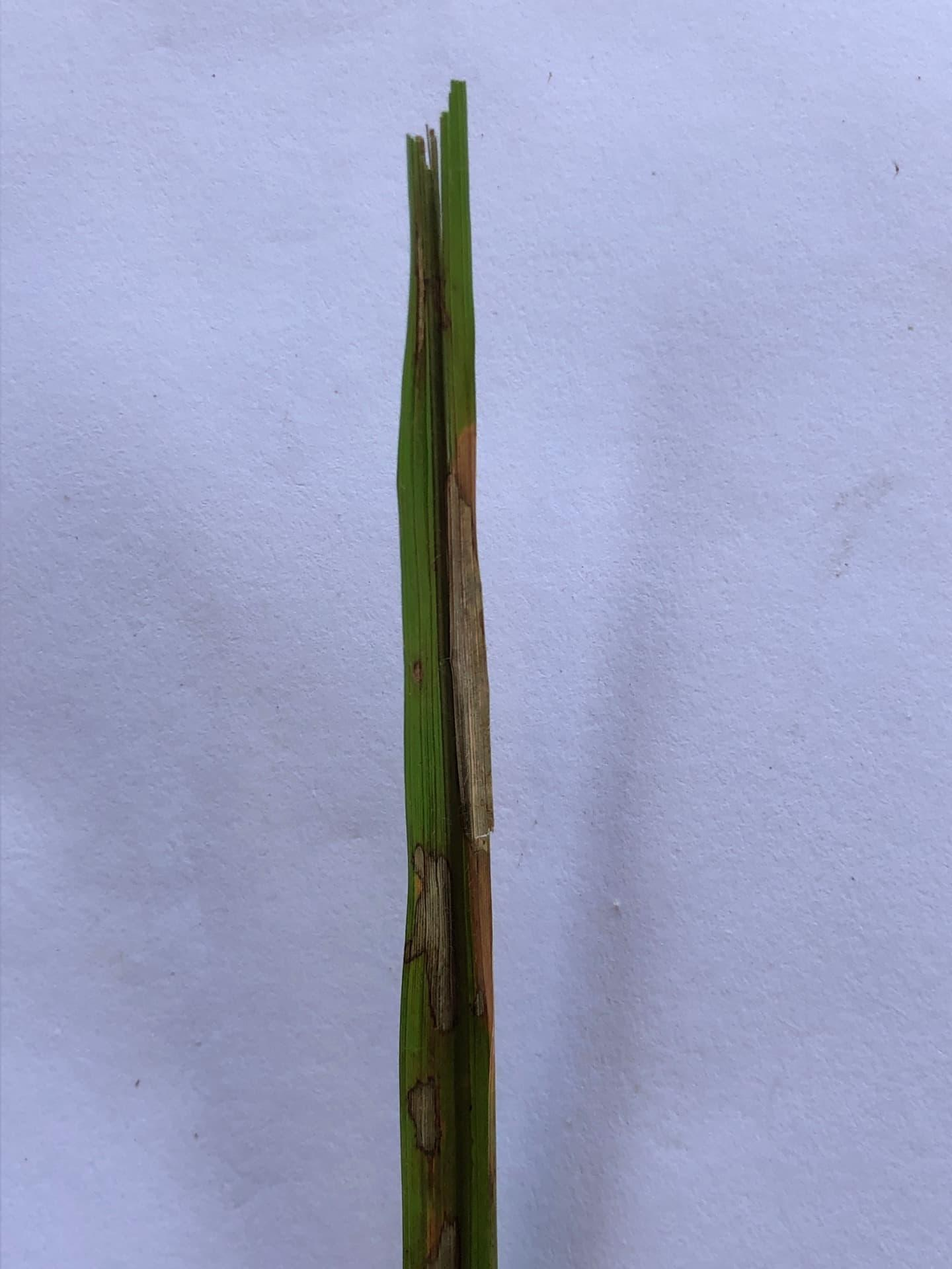Leaf Blight: (448, 428, 495, 1179), (404, 845, 453, 1036), (414, 232, 446, 369), (407, 1078, 440, 1165), (426, 1206, 456, 1268)
